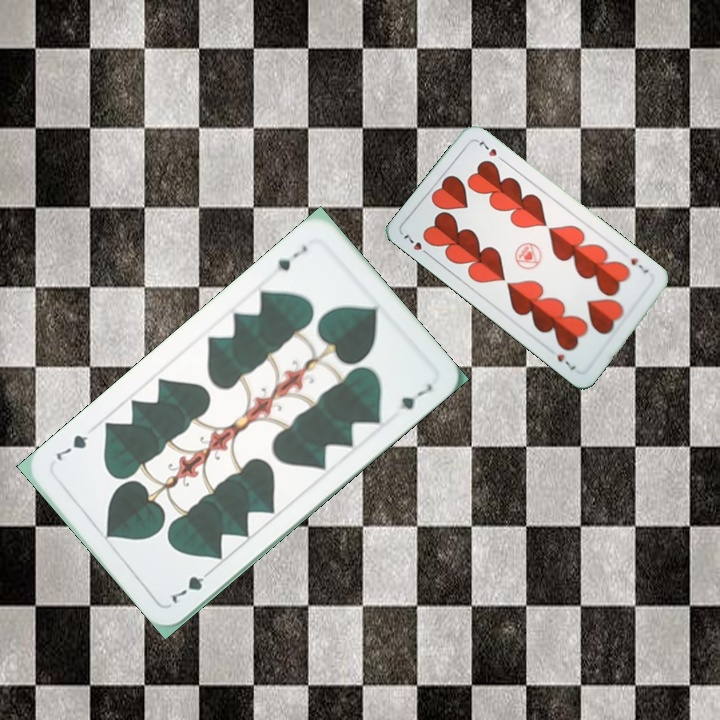G7: (167, 564, 216, 607), (272, 241, 310, 274)
H7: (399, 228, 433, 259), (626, 254, 651, 276)
